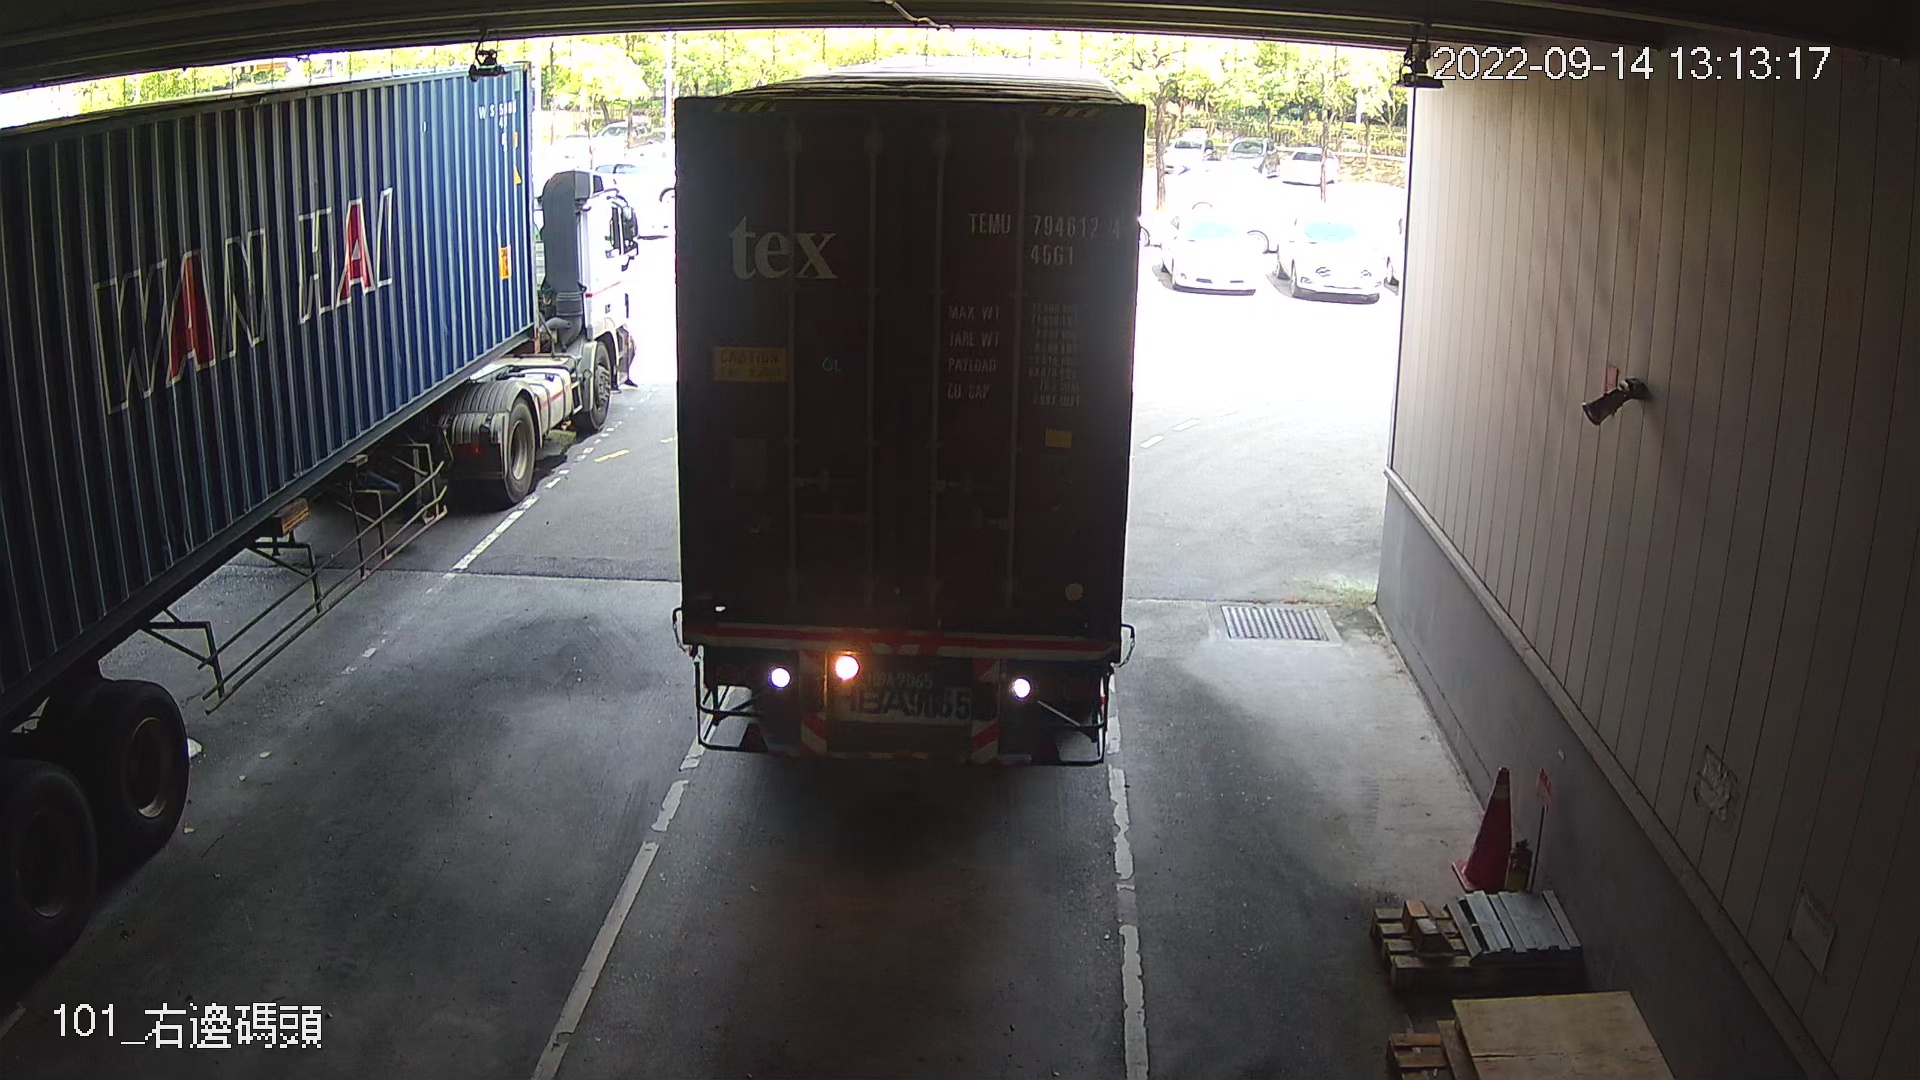container: (959, 202, 1131, 274)
